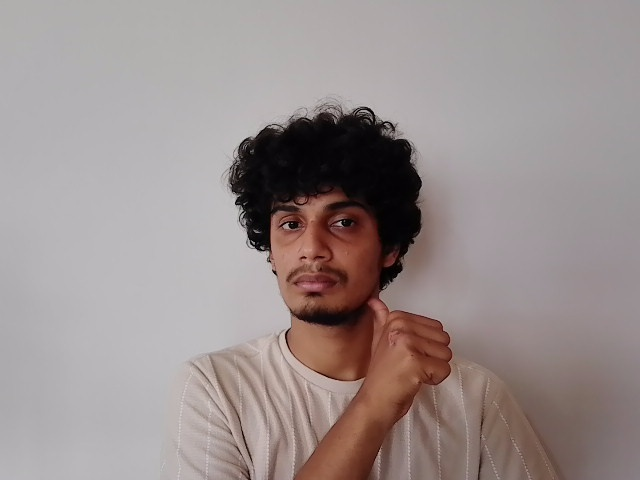not: (280, 295, 471, 407)
